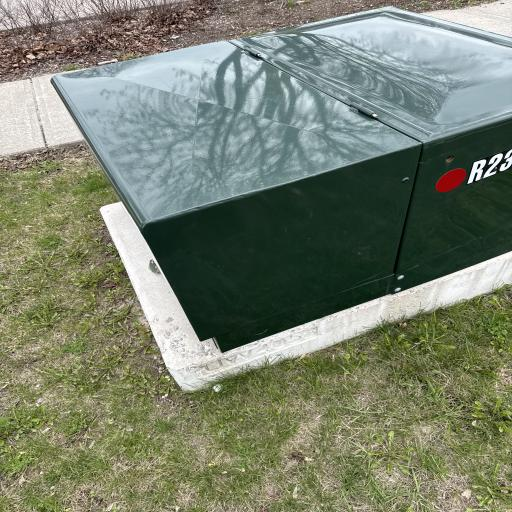Electrical Box: (51, 5, 512, 353)
